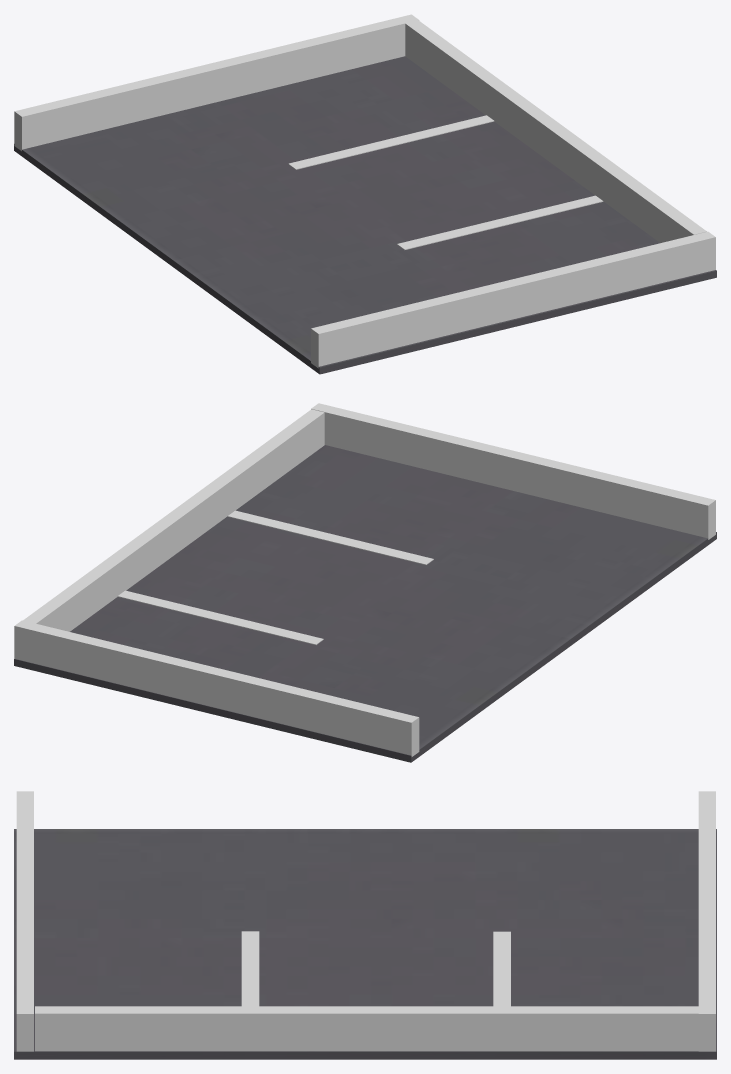
File: Garage v2.fbx
The picture shows the model from 3 angles, top to bottom: view 1: azimuth 30°, elevation 25°; view 2: azimuth 150°, elevation 25°; view 3: azimuth 270°, elevation 25°; orthographic projection. The views are drawn at different scales.
Visible parts, largest first — view 1: Cube.006, Cube.000, Cube.002, Cube.001, Cube.004, Cube.003; view 2: Cube.006, Cube.002, Cube.000, Cube.001, Cube.003, Cube.004; view 3: Cube.006, Cube.001, Cube.000, Cube.002, Cube.004, Cube.003.
Boxes of the visible parts, left/top/right/bottom form: Cube.006: left=14, top=56, right=716, bottom=374; Cube.000: left=311, top=231, right=715, bottom=368; Cube.002: left=14, top=14, right=419, bottom=151; Cube.001: left=404, top=19, right=706, bottom=242; Cube.004: left=397, top=195, right=603, bottom=249; Cube.003: left=288, top=115, right=494, bottom=169; Cube.006: left=14, top=445, right=716, bottom=762; Cube.002: left=14, top=620, right=419, bottom=756; Cube.000: left=311, top=403, right=715, bottom=539; Cube.001: left=21, top=409, right=324, bottom=631; Cube.003: left=117, top=590, right=323, bottom=644; Cube.004: left=227, top=510, right=433, bottom=564; Cube.006: left=14, top=829, right=716, bottom=1059; Cube.001: left=35, top=1006, right=702, bottom=1051; Cube.000: left=16, top=791, right=33, bottom=1051; Cube.002: left=698, top=791, right=715, bottom=1051; Cube.004: left=241, top=931, right=259, bottom=1006; Cube.003: left=493, top=931, right=510, bottom=1006.
Bounding box in the file's own units: 2400 × 229 × 3200.
